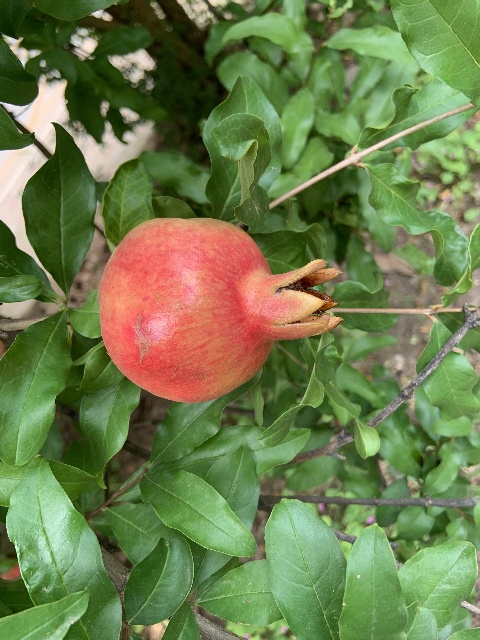ripe: (99, 216, 345, 403)
